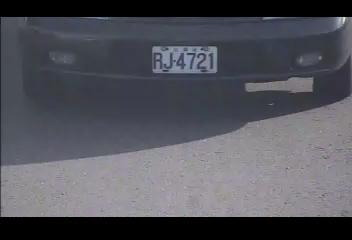plate: (150, 44, 218, 75)
